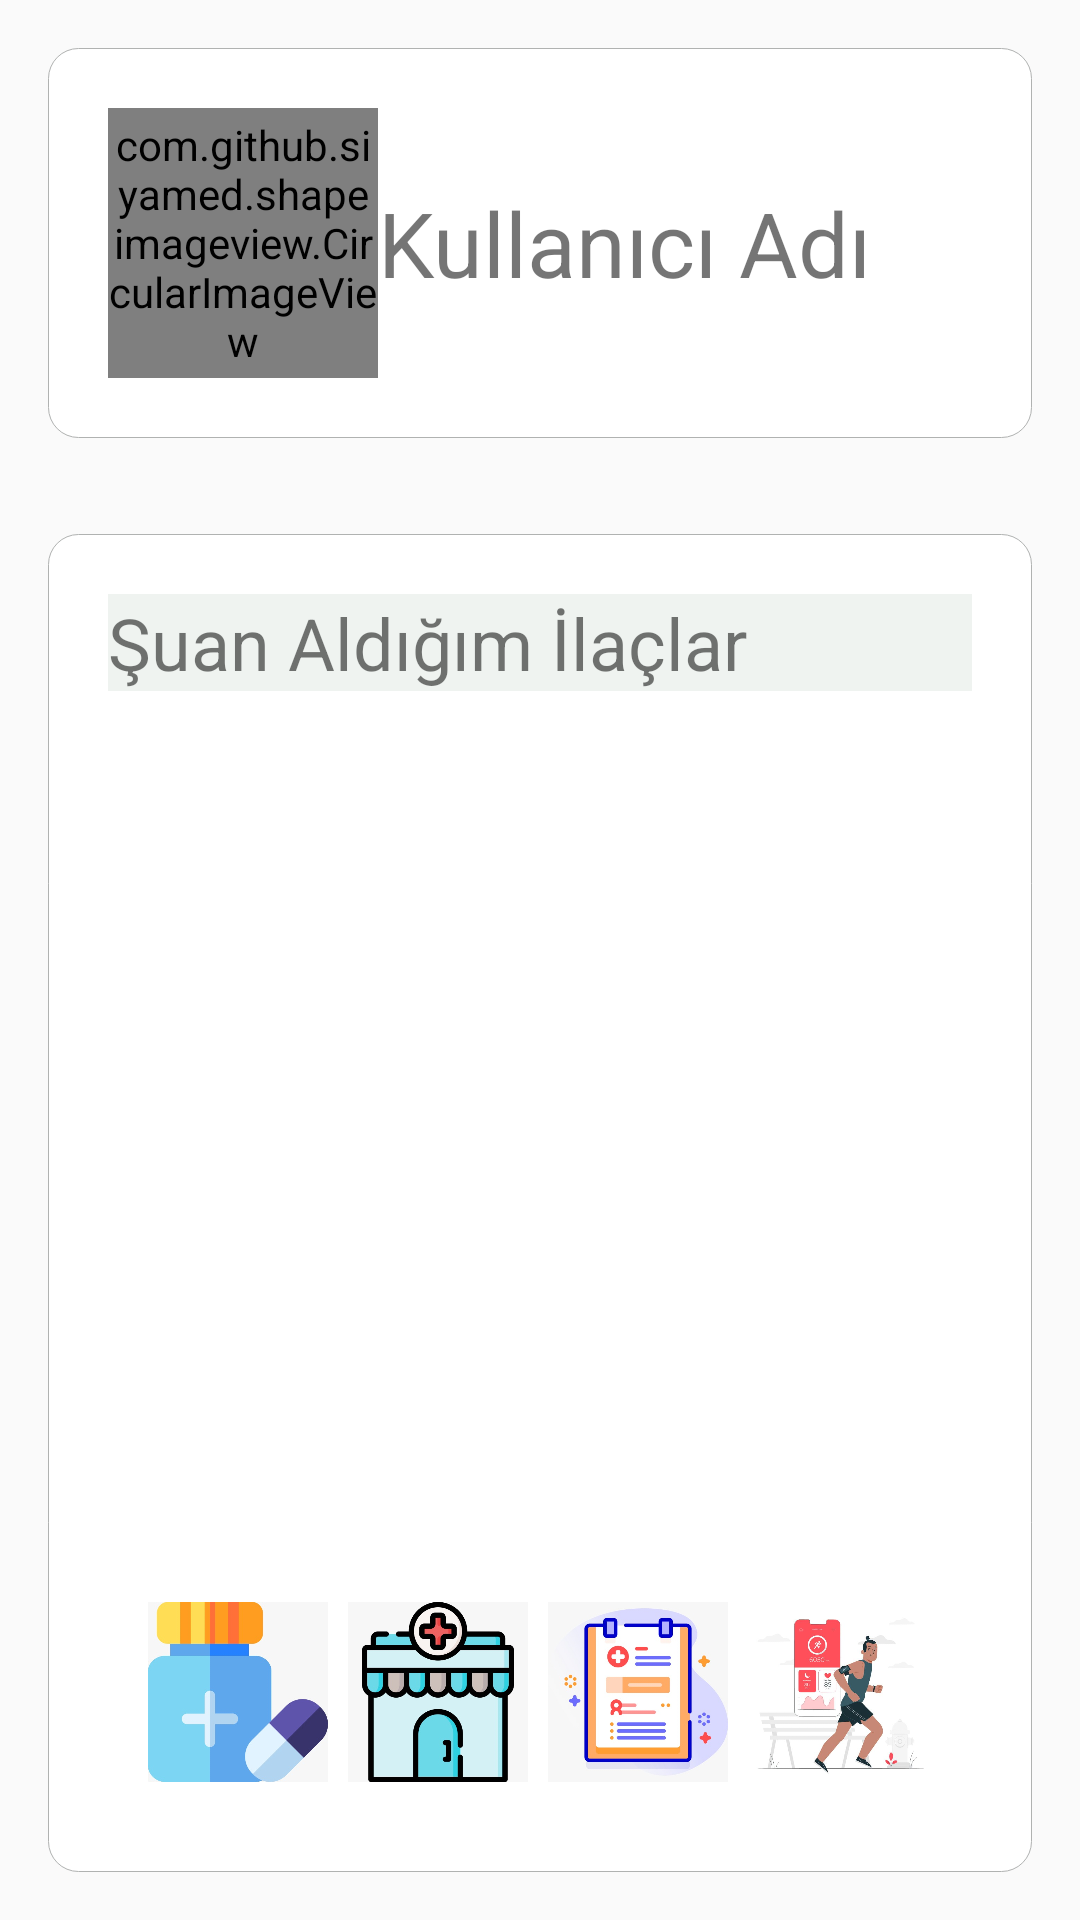

Named icons in this screenshot (1080 × 1920) and their centers, (x=x, y=y):
imgmed: (x=238, y=1692)
imgnote: (x=646, y=1690)
imgpharmacy: (x=438, y=1692)
run: (x=841, y=1696)
